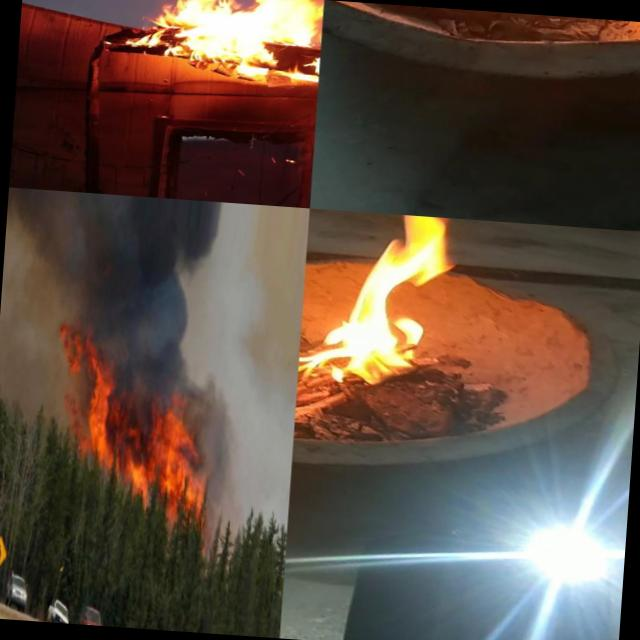fire: (294, 208, 462, 443), (78, 349, 216, 508), (137, 0, 324, 88)
smoke: (0, 187, 228, 359)
